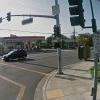Traffic light: (66, 0, 98, 39)
